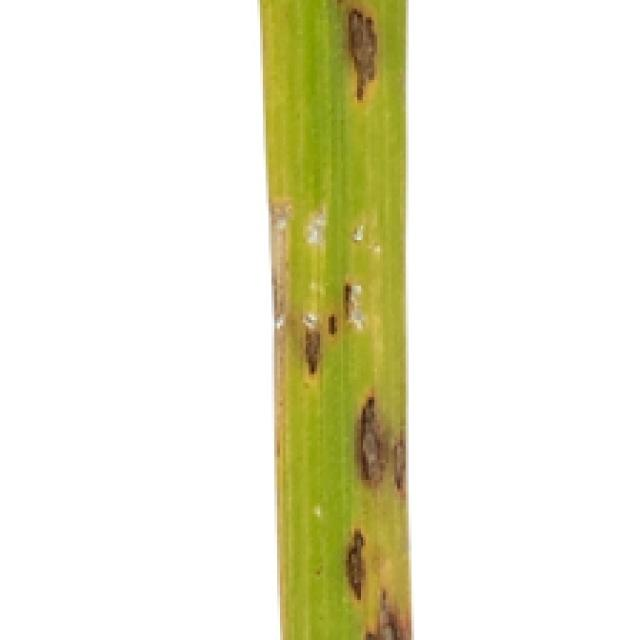Rice___Rice_Blast: (256, 0, 413, 637)
